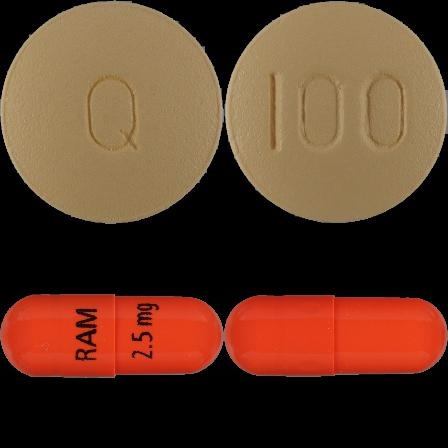16729-147: (0, 0, 224, 224)
